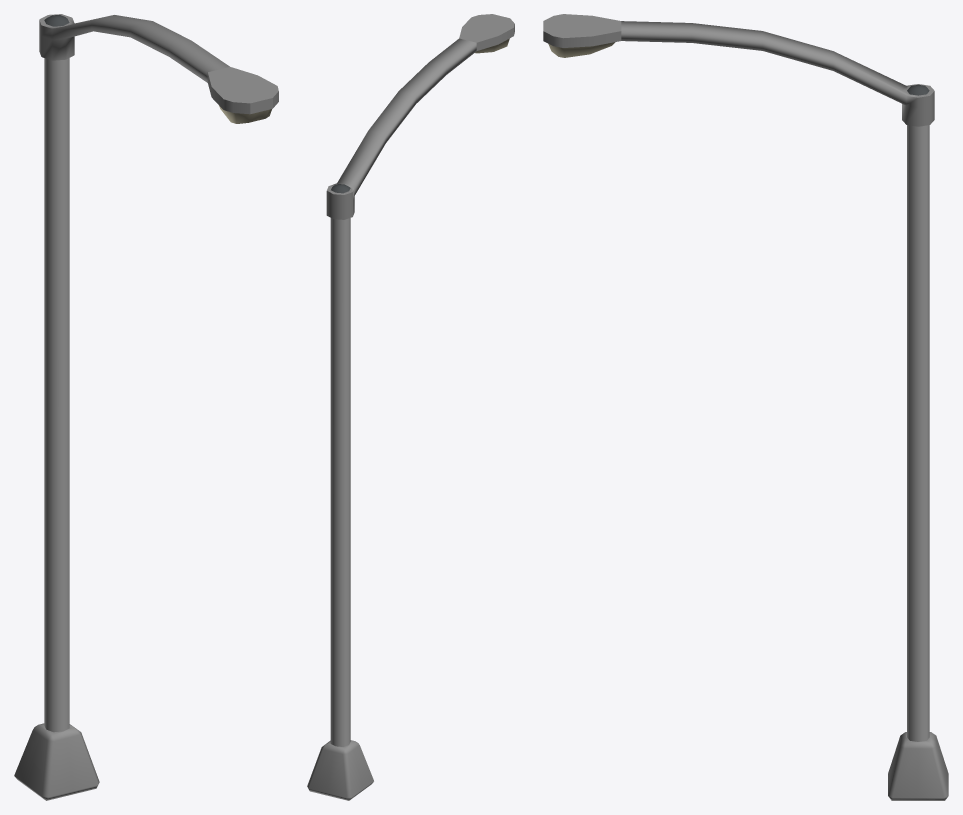
The model's file is PS_StreetLight.fbx.
3 renders of one model, left to right at view 1: azimuth 30°, elevation 25°; view 2: azimuth 150°, elevation 25°; view 3: azimuth 270°, elevation 25°, orthographic. The views are drawn at different scales.
Parts seen in each view (by area): view 1: PS_StreetLight; view 2: PS_StreetLight; view 3: PS_StreetLight.
Boxes of the visible parts, bbox=[...] form: PS_StreetLight: bbox=[14, 14, 278, 800]; PS_StreetLight: bbox=[307, 14, 514, 800]; PS_StreetLight: bbox=[543, 14, 948, 800].
Size of the model in its own units: 0.4101 by 5.67 by 2.73.
